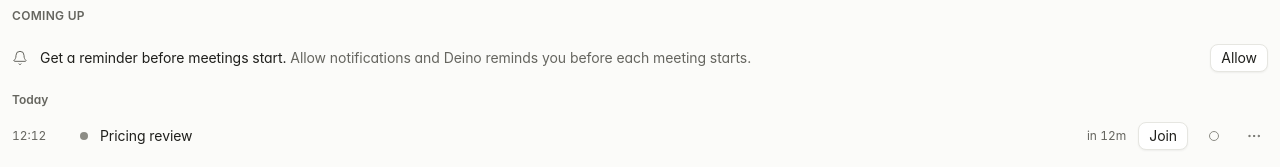
Home Coming up › asks for notifications beside the first upcoming meeting, once (UX-22)
Click the button "Allow" at [1239, 58], box [1210, 44, 1268, 72]
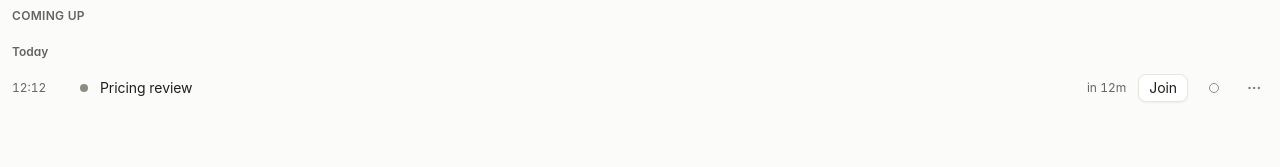
Now the button "Allow" is gone
